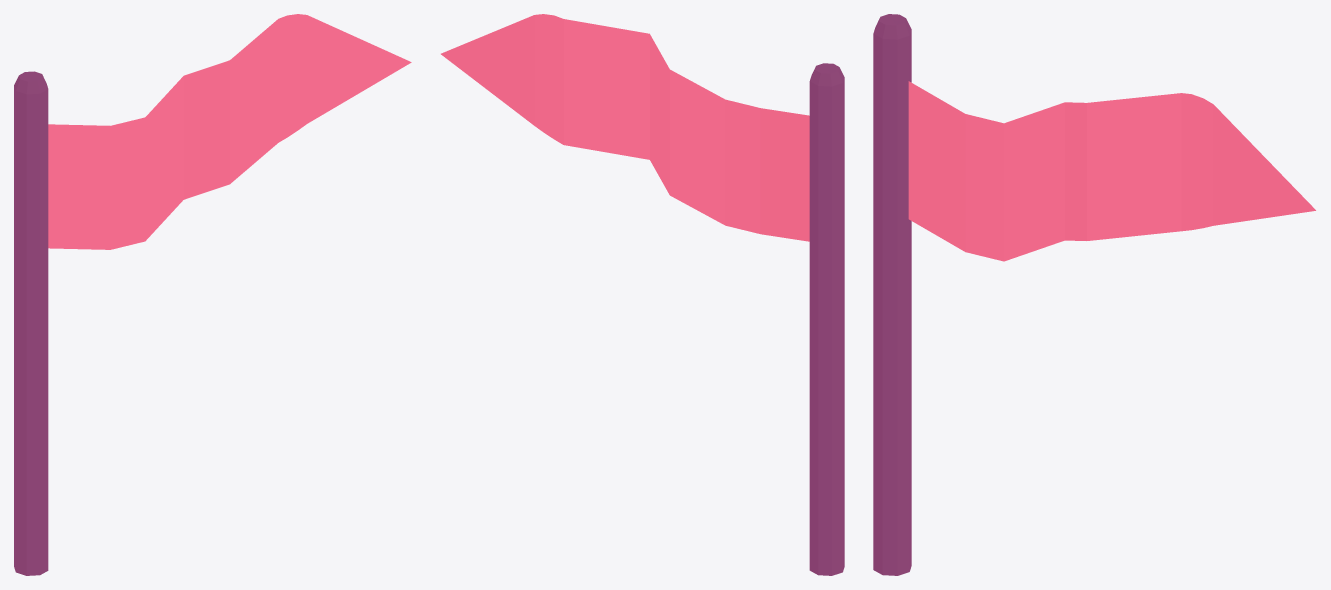
File: drapeau.glb
3 renders of one model, left to right at view 1: azimuth 30°, elevation 25°; view 2: azimuth 150°, elevation 25°; view 3: azimuth 330°, elevation 25°, orthographic. The views are drawn at different scales.
Parts seen in each view (by area): view 1: Plane, Cylinder; view 2: Plane, Cylinder; view 3: Plane, Cylinder.
Boxes of the visible parts, x1=… form: Plane: x1=48, y1=14, x2=411, y2=249; Cylinder: x1=14, y1=71, x2=48, y2=575; Plane: x1=441, y1=14, x2=809, y2=241; Cylinder: x1=809, y1=63, x2=844, y2=575; Plane: x1=908, y1=81, x2=1315, y2=261; Cylinder: x1=873, y1=14, x2=911, y2=575.
Size of the model in its own units: 6.68 by 7.93 by 0.6134.
